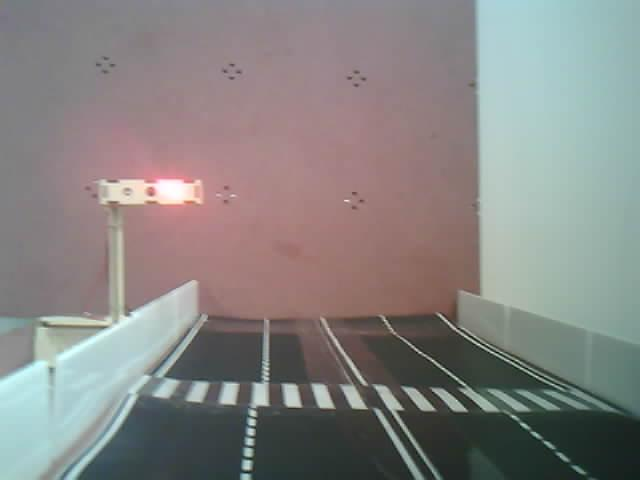crosswalk: (123, 355, 628, 429)
red: (91, 170, 233, 282)
